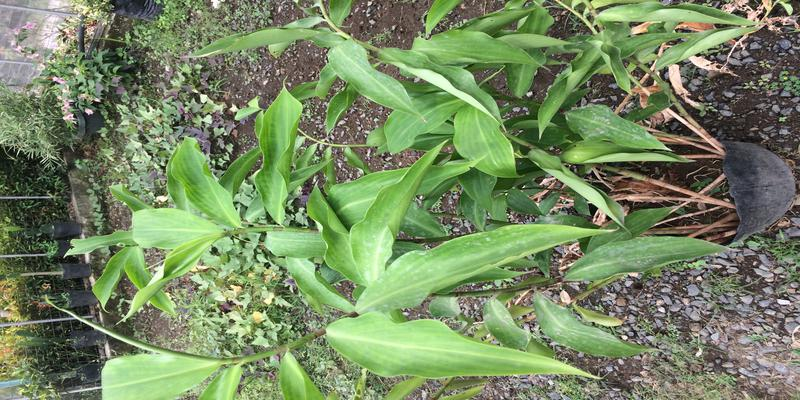Insulin: (257, 22, 735, 365)
